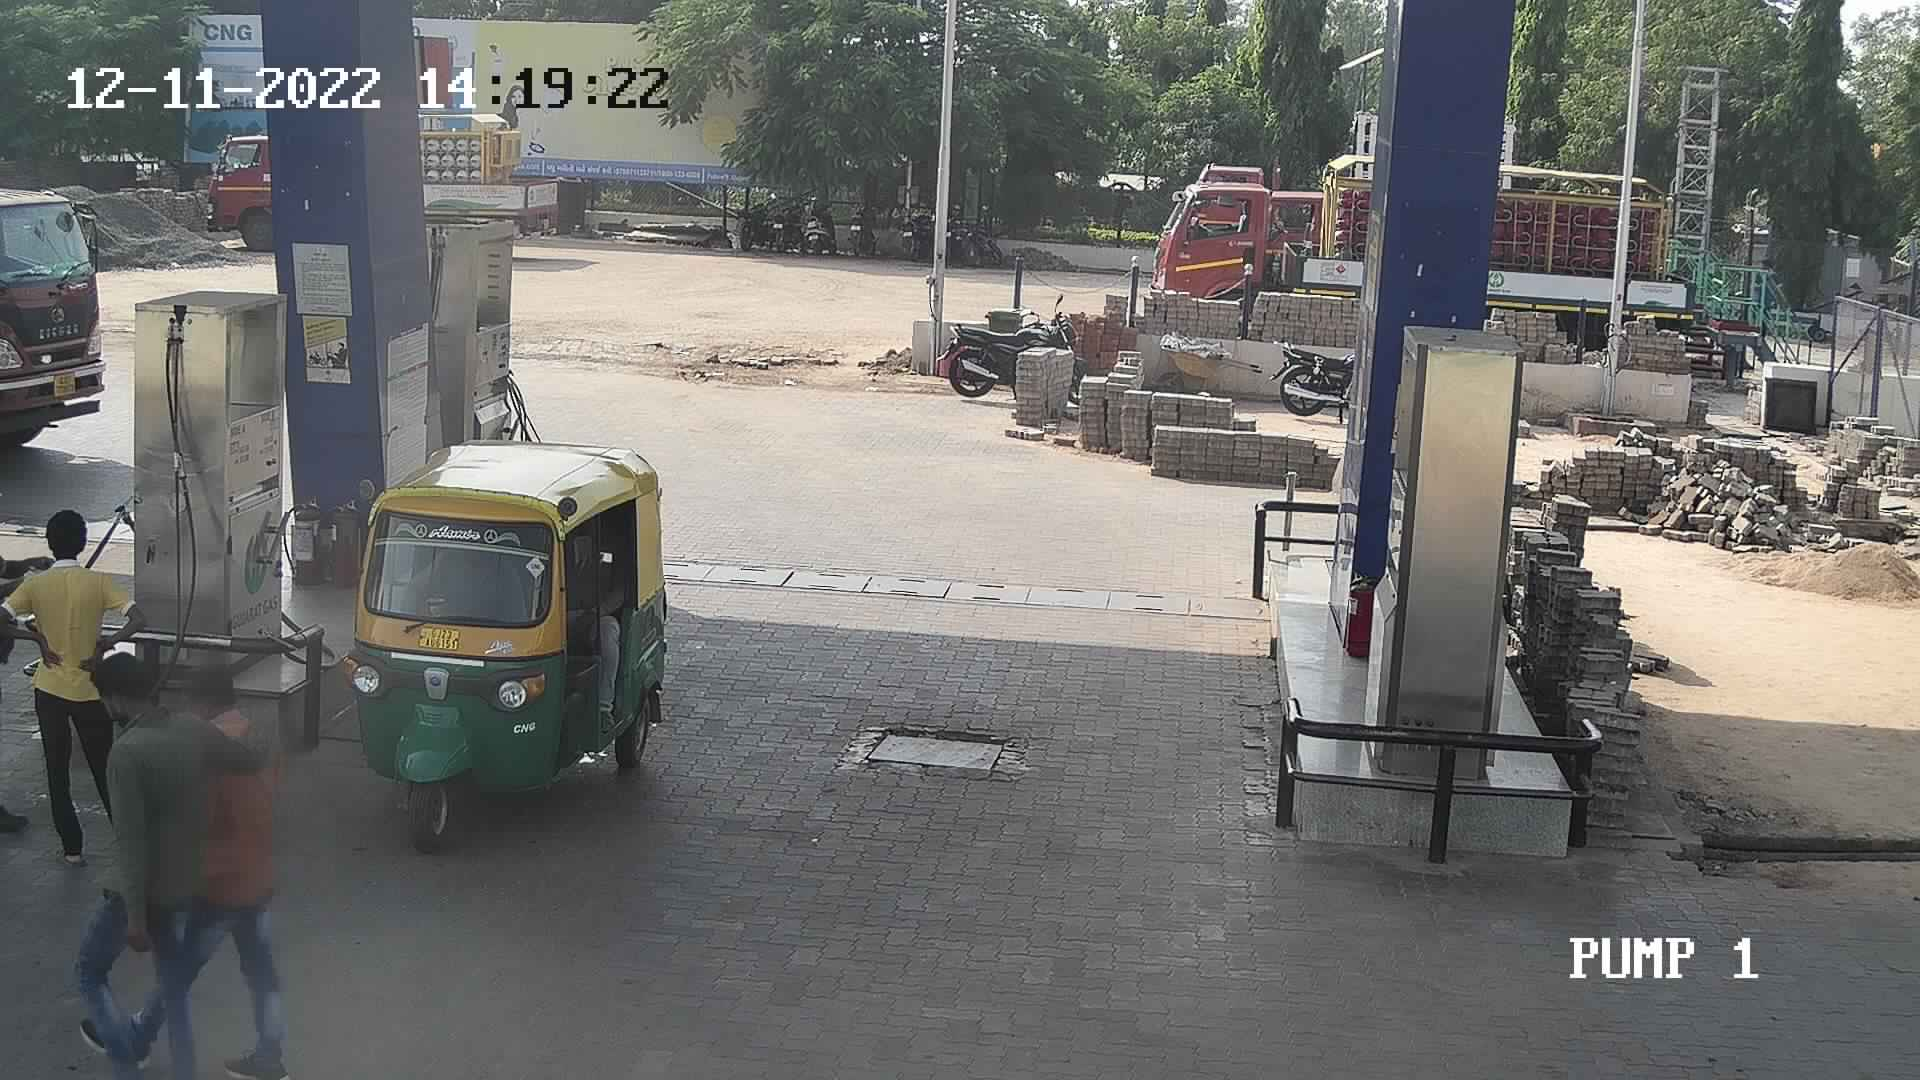Auto: (339, 429, 676, 857)
Bike: (934, 290, 1104, 426), (1262, 330, 1364, 431), (940, 196, 1009, 269), (727, 185, 789, 264), (891, 185, 938, 266), (837, 193, 893, 260), (795, 182, 844, 257), (767, 182, 810, 258)
HMV: (1142, 144, 1378, 342), (0, 156, 119, 447), (1185, 98, 1390, 264), (415, 78, 579, 252)
